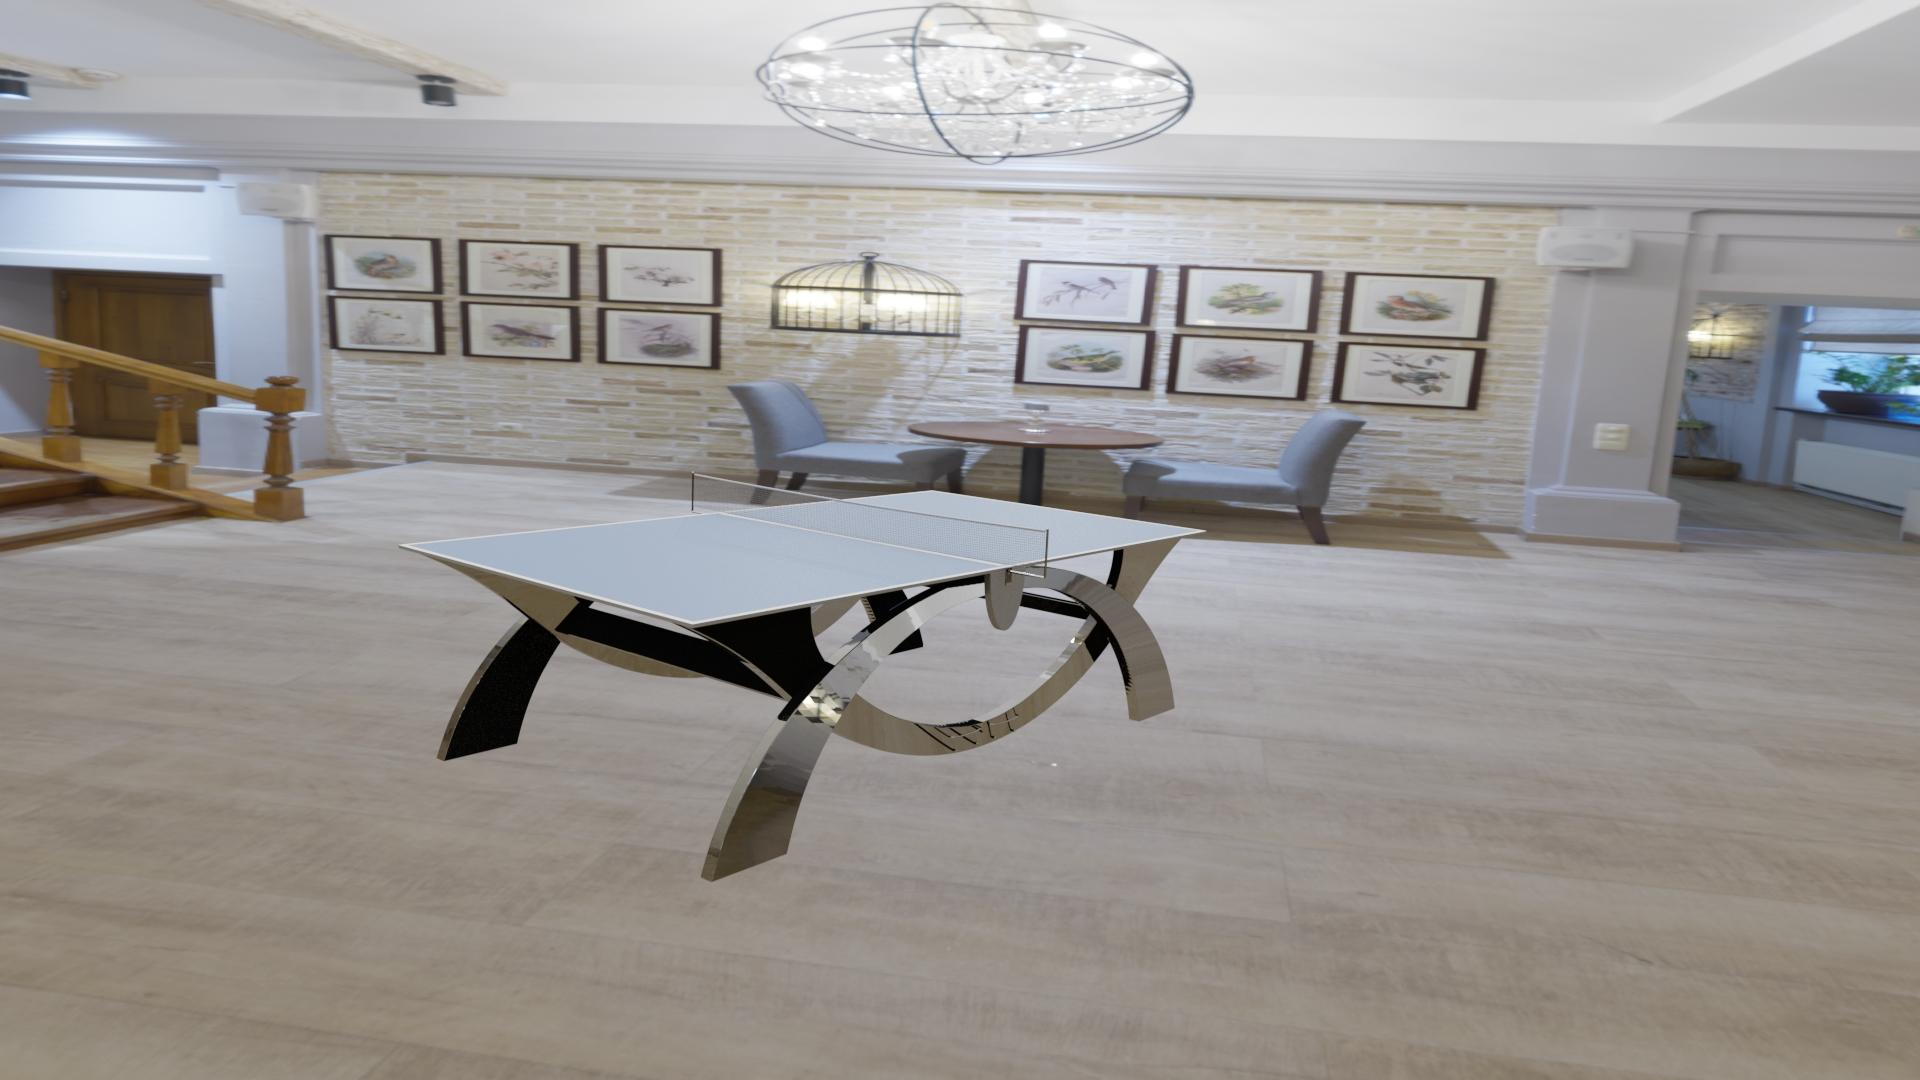table: (407, 492, 1200, 622)
